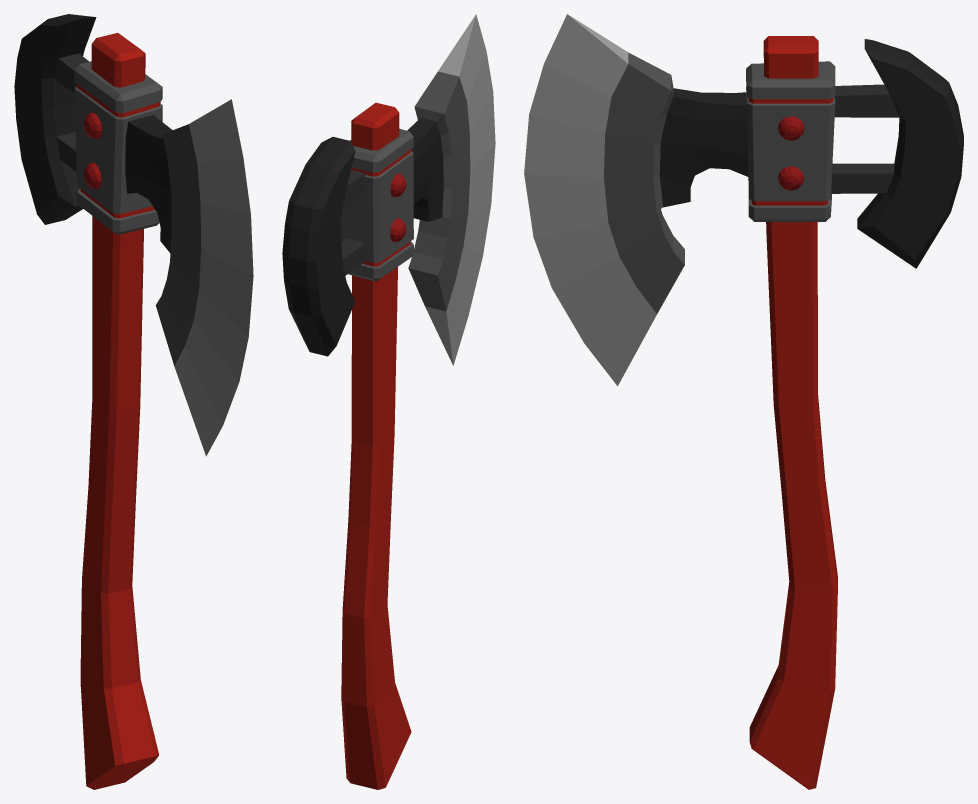
Rendered from Axe02.fbx.
3 renders of one model, left to right at view 1: azimuth 30°, elevation 25°; view 2: azimuth 150°, elevation 25°; view 3: azimuth 270°, elevation 25°, orthographic. The views are drawn at different scales.
Parts seen in each view (by area): view 1: Axe02; view 2: Axe02; view 3: Axe02.
Part boxes in pixels (x1,y1,x2,y2): Axe02: (14, 14, 253, 789); Axe02: (282, 14, 495, 789); Axe02: (524, 14, 963, 789).
Bounding box in the file's own units: 14.4 × 84.81 × 164.
Materials: 1 (1 with a texture image).
